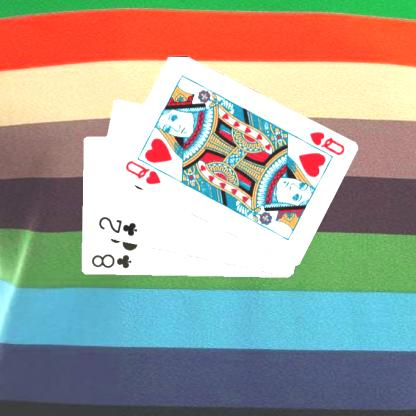2C: (95, 214, 139, 238)
8C: (88, 252, 132, 270)
QH: (297, 129, 346, 160), (122, 158, 162, 186)
